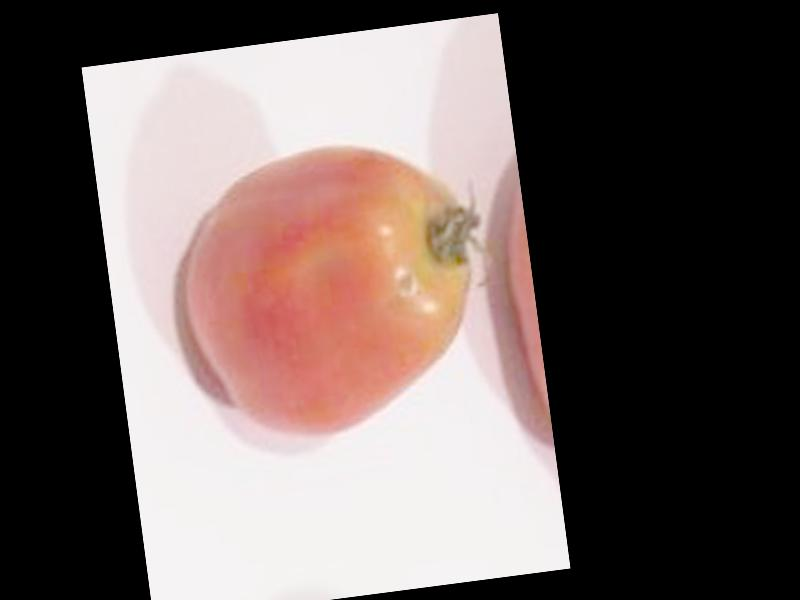Tomato: (175, 131, 493, 448)
